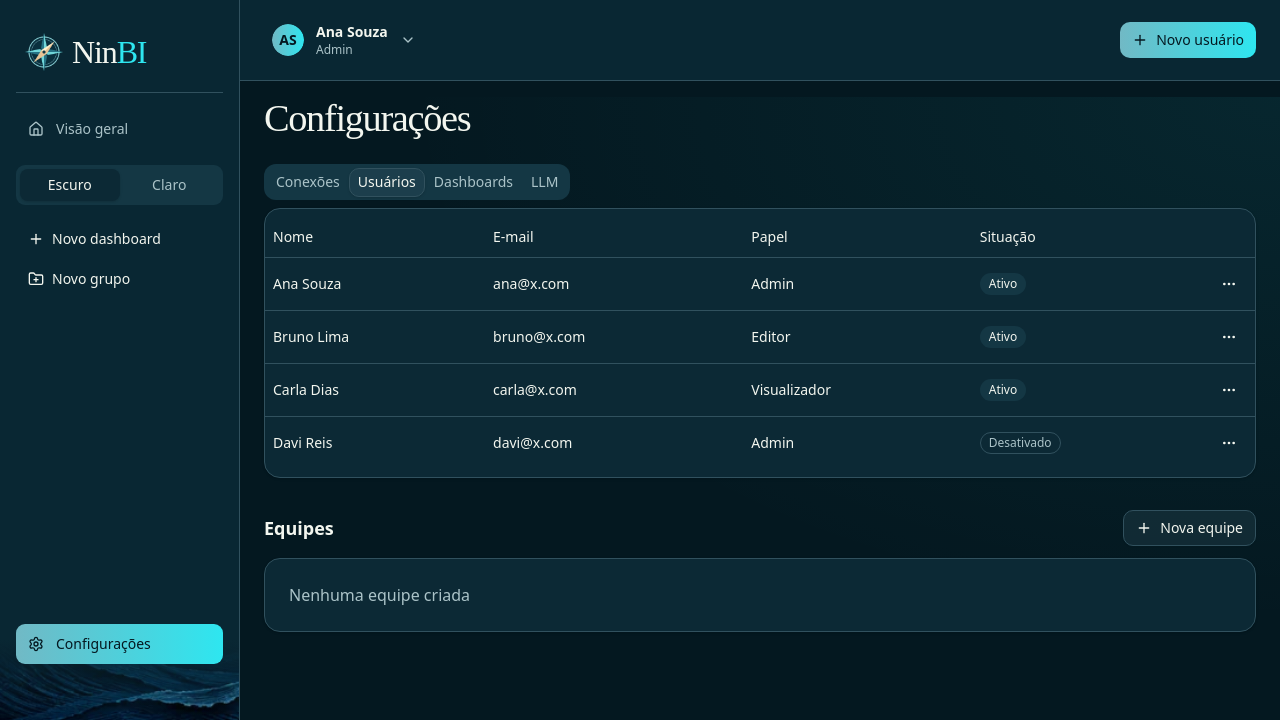
Test: TeamDialog › TEAM-03 Nova equipe com nome e membros aparece na lista
Click the button "Nova equipe".
click(1190, 528)  # box [1123,510,1256,546]
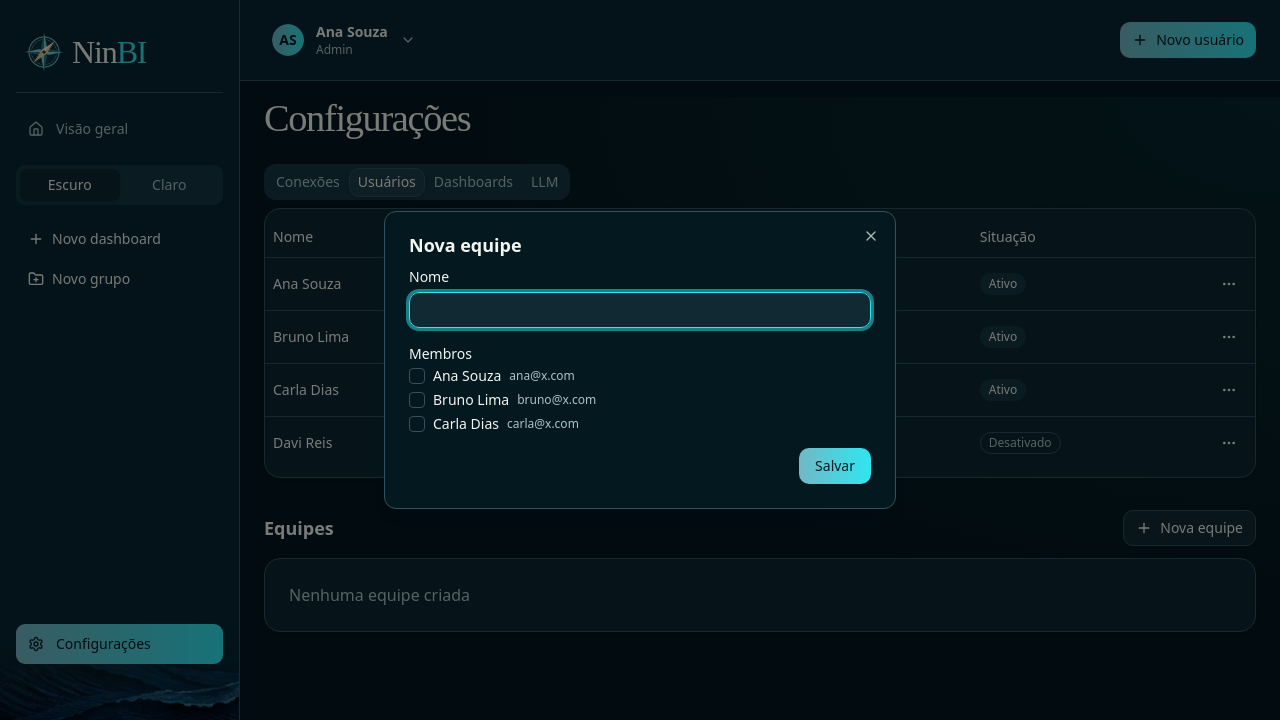
Type "Comercial" into the field labelled "Nome".
click(640, 310); type("Comercial")  # box [409,292,871,328]
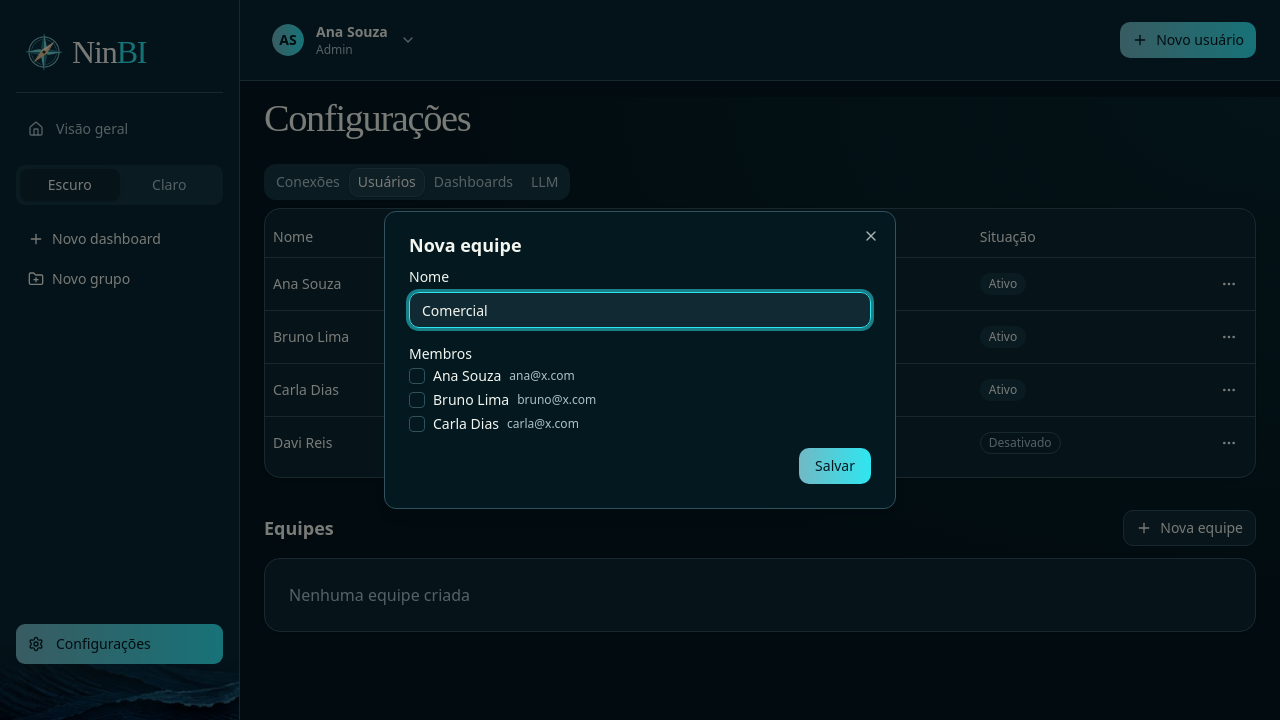
Click the 2nd checkbox named "Bruno Lima".
click(417, 400)  # box [409,392,425,408]
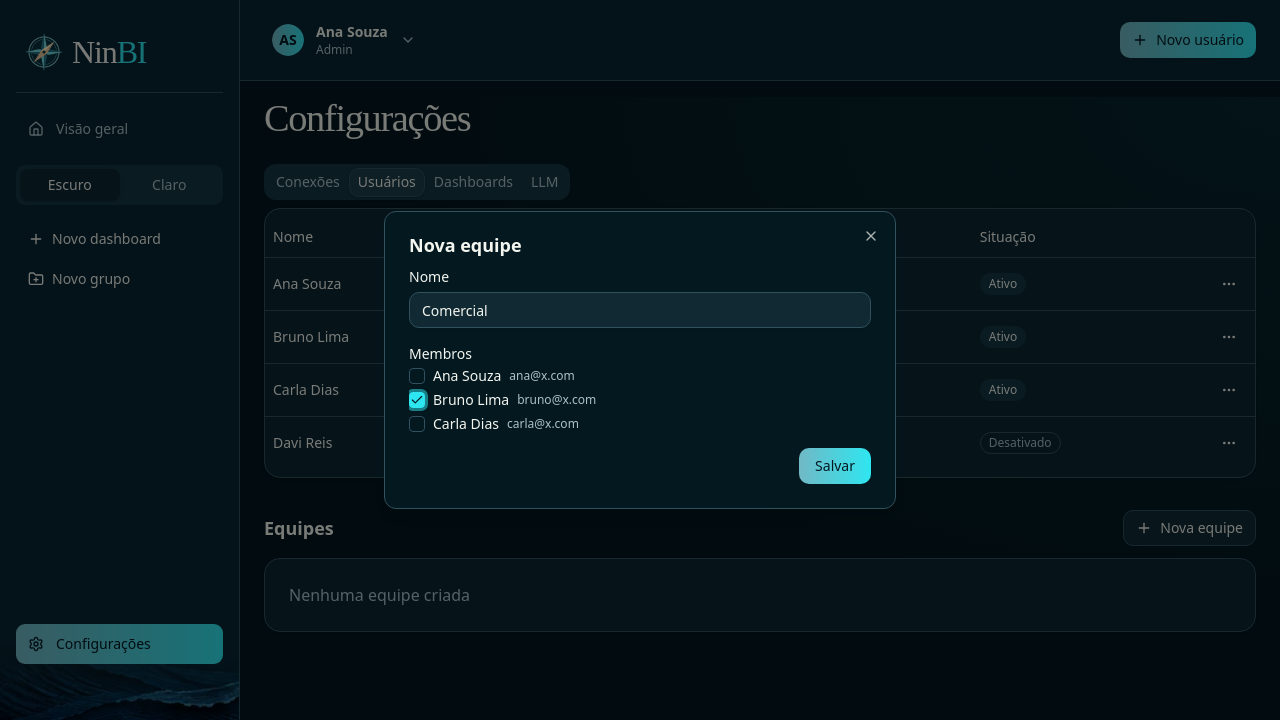
Click the 3rd checkbox named "Carla Dias".
click(417, 424)  # box [409,416,425,432]
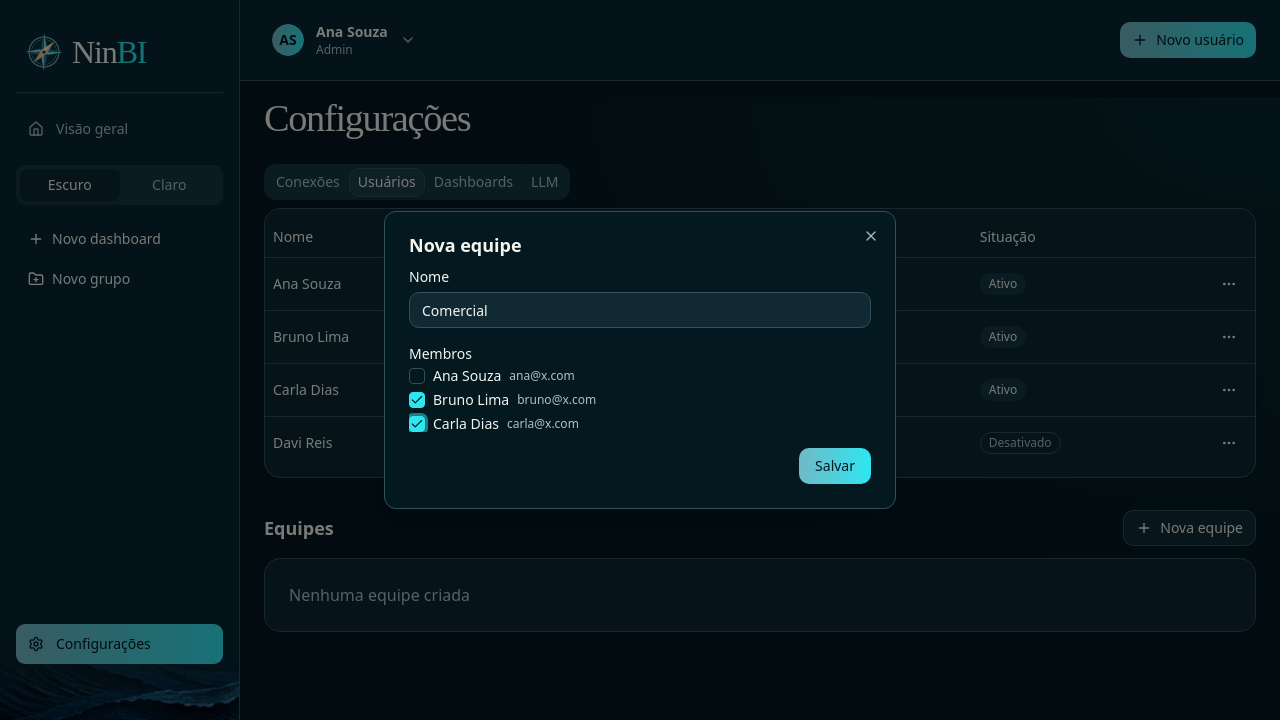
Click the button "Salvar".
click(835, 466)  # box [799,448,871,484]
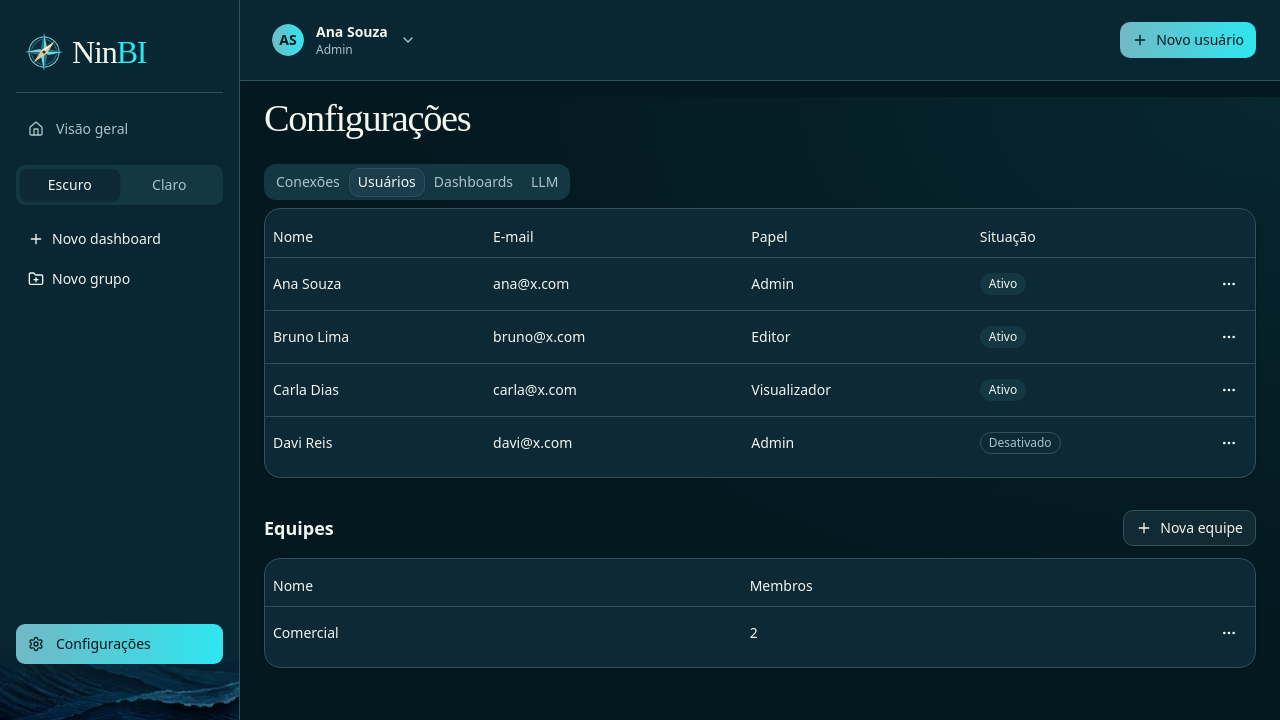
Expected: the text "Comercial" is shown, [273,623,339,642]
